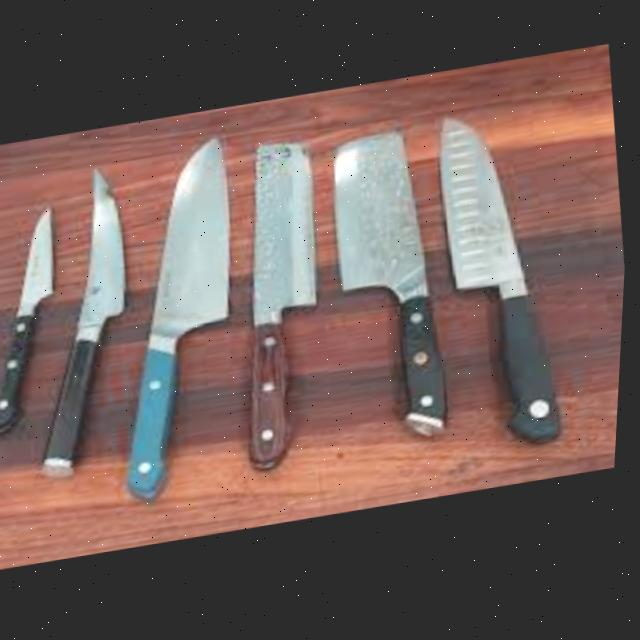knife: (88, 136, 267, 506), (422, 102, 580, 462), (316, 126, 466, 453), (212, 135, 350, 474), (9, 162, 155, 482), (0, 203, 80, 434)
